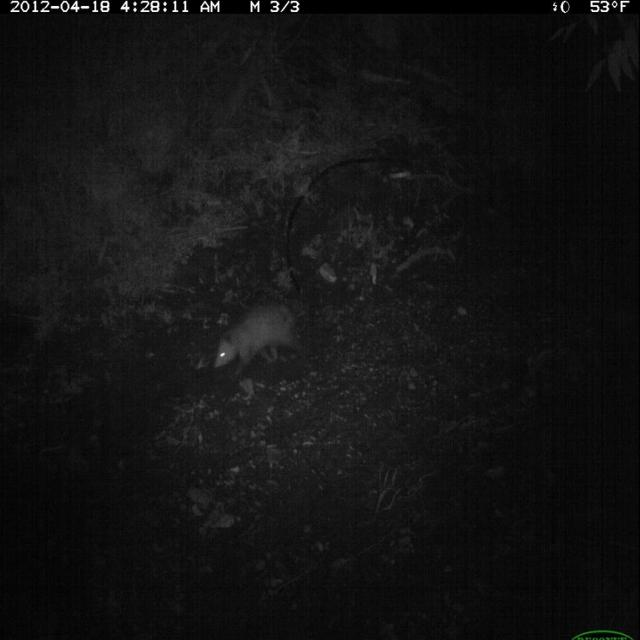opossum: (214, 299, 313, 384)
